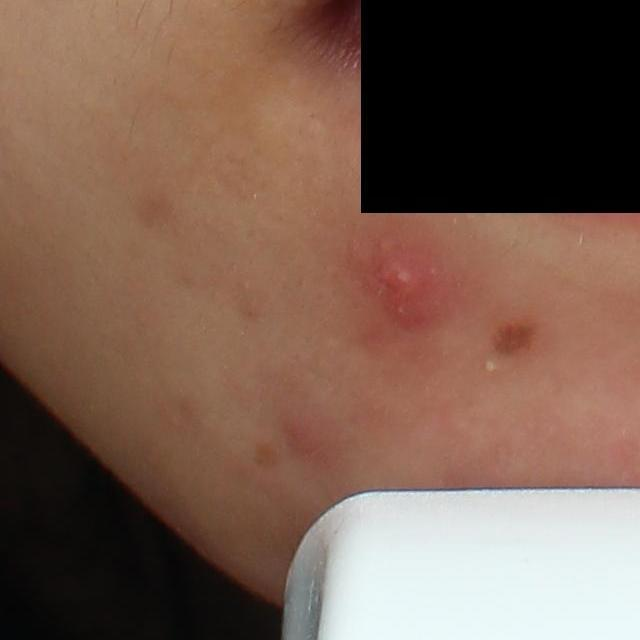nevus: (486, 315, 546, 359)
papule: (369, 235, 438, 303), (283, 410, 329, 461)
